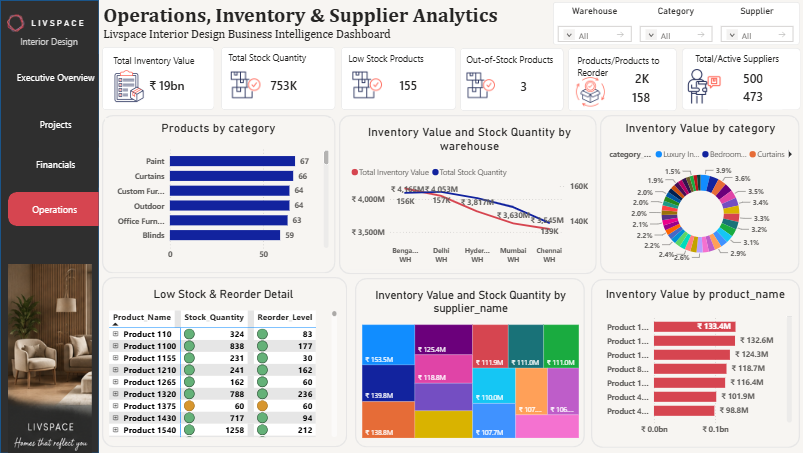

This screenshot's page, from the dashboard's own definition file:
{"tool":"powerbi","page":{"name":"Page 4","canvas":[1280,720],"ordinal":3},"visuals":[{"type":"group","id":"g1","title":"Group 1","box":[0,0,157.4,719.7],"z":0},{"type":"shape","box":[0,0,157.4,719.7],"z":0,"group":"g1"},{"type":"textbox","box":[158.3,0,1121.7,75],"z":1000},{"type":"shape","box":[20.6,86.4,135.7,74.3],"z":1000,"group":"g1"},{"type":"image","box":[11.8,18.8,29.4,34.7],"z":2000,"group":"g1"},{"type":"group","id":"g2","title":"Group 2","box":[350,75,182,100],"z":2000},{"type":"textbox","box":[44.1,22.9,101.6,36.1],"z":3000,"group":"g1"},{"type":"group","id":"g3","title":"Group 3","box":[162.7,75.3,178.5,100],"z":3000},{"type":"textbox","box":[26.5,50,115.7,31.4],"z":4000,"group":"g1"},{"type":"group","id":"g4","title":"Group 2","box":[540.6,75.3,182.9,100],"z":4000},{"type":"group","id":"g5","title":"Group 2","box":[730.3,75.8,164.6,100],"z":5000},{"type":"shape","box":[12.2,305.4,144.3,54.1],"z":5000,"group":"g1"},{"type":"group","id":"g6","title":"Group 2","box":[901,75.8,172.8,100.4],"z":6000},{"type":"image","box":[13.1,419.7,132.8,300],"z":6000,"group":"g1"},{"type":"group","id":"g7","title":"Group 4","box":[1081.8,75.8,187.9,99],"z":7000},{"type":"group","id":"g8","title":"Group 2","box":[1081.8,75.8,188.4,98.5],"z":7000,"group":"g7"},{"type":"shape","box":[20,224.4,135.7,74.3],"z":7000,"group":"g1"},{"type":"shape","box":[20.3,160.8,135.7,74.3],"z":8000,"group":"g1"},{"type":"shape","box":[953,181.8,316.7,251.5],"z":8000},{"type":"group","id":"g9","title":"Group 6","box":[162.3,182,367,251.8],"z":9000},{"type":"shape","box":[877.3,3.4,391.6,68],"z":10000,"group":"g11"},{"type":"shape","box":[350,75,181.6,100],"z":10000,"group":"g2"},{"type":"shape","box":[162.7,75.3,178.5,100],"z":10000,"group":"g3"},{"type":"shape","box":[540.6,75.3,182.9,100],"z":10000,"group":"g4"},{"type":"shape","box":[730.3,75.8,164.6,100],"z":10000,"group":"g5"},{"type":"shape","box":[901,75.8,172.8,100.4],"z":10000,"group":"g6"},{"type":"shape","box":[1081.8,75.8,188.4,98.5],"z":10000,"group":"g8"},{"type":"donutChart","title":"Inventory Value by category","fields":{"Category":["product_categories.category_name"],"Y":["All Measures.Total Inventory Value"]},"box":[962.1,187.9,300,237.9],"z":10000},{"type":"cardVisual","title":"Total Revenue","fields":{"Data":["All Measures.Total Suppliers"]},"box":[1155.1,97.4,86.1,48.1],"z":11000,"group":"g8"},{"type":"cardVisual","title":"Total Revenue","fields":{"Data":["All Measures.Total Inventory Value"]},"box":[208.7,108.1,126.4,52.9],"z":11000,"group":"g3"},{"type":"cardVisual","title":"Total Revenue","fields":{"Data":["All Measures.Total Stock Quantity"]},"box":[399.4,109,111.4,52.5],"z":11000,"group":"g2"},{"type":"cardVisual","title":"Total Revenue","fields":{"Data":["All Measures.Low Stock Products"]},"box":[603.9,110,104.6,51.7],"z":11000,"group":"g4"},{"type":"cardVisual","title":"Total Revenue","fields":{"Data":["All Measures.Out-of-Stock Products"]},"box":[784.8,110.3,94.2,51.7],"z":11000,"group":"g5"},{"type":"cardVisual","title":"Total Revenue","fields":{"Data":["All Measures.Products Requiring Reorder"]},"box":[978.8,129.6,80.8,44.4],"z":11000,"group":"g6"},{"type":"cardVisual","title":"Total Revenue","fields":{"Data":["All Measures.Active Suppliers"]},"box":[1155.1,130.6,86.2,41.7],"z":11000,"group":"g7"},{"type":"shape","box":[162.3,182,370.5,251.4],"z":11000,"group":"g9"},{"type":"group","id":"g10","title":"Group 7","box":[538.4,182,409.2,252.9],"z":11000},{"type":"textSlicer","title":"Warehouse","fields":{"Values":["inventory.warehouse"]},"box":[881.4,6.8,122.9,63.2],"z":12000,"group":"g11"},{"type":"textbox","box":[355.8,77.3,160.1,36.1],"z":12000,"group":"g2"},{"type":"textbox","box":[1098.3,78.1,153.9,31.6],"z":12000,"group":"g8"},{"type":"textbox","box":[735.3,78.6,149.2,31],"z":12000,"group":"g5"},{"type":"textbox","box":[546.3,79,146.2,28.7],"z":12000,"group":"g4"},{"type":"textbox","box":[909.9,80.4,156.6,51.3],"z":12000,"group":"g6"},{"type":"textbox","box":[174.8,81,157,28.8],"z":12000,"group":"g3"},{"type":"clusteredBarChart","title":"Products by category","fields":{"Category":["product_categories.category_name"],"Y":["All Measures.Total Products"]},"box":[167.5,186.9,360.2,235.1],"z":12000,"group":"g9"},{"type":"shape","box":[161.7,440.4,389.4,270.2],"z":12000},{"type":"cardVisual","title":"Total Revenue","fields":{"Data":["All Measures.Total Products"]},"box":[983.5,101.5,78.9,43.4],"z":13000},{"type":"image","box":[1086.7,108.5,61.1,55.3],"z":13000,"group":"g8"},{"type":"image","box":[359.5,112.3,58.8,47.1],"z":13000,"group":"g2"},{"type":"image","box":[179.6,112.6,50.6,50.6],"z":13000,"group":"g3"},{"type":"image","box":[551.7,112.6,61.2,47.1],"z":13000,"group":"g4"},{"type":"image","box":[737.1,113,53,44.5],"z":13000,"group":"g5"},{"type":"image","box":[910,121.7,52,46.7],"z":13000,"group":"g6"},{"type":"shape","box":[538.4,182,409.2,252.9],"z":13000,"group":"g10"},{"type":"lineChart","title":"Inventory Value and Stock Quantity by warehouse","fields":{"Category":["inventory.warehouse"],"Y":["All Measures.Total Inventory Value"],"Y2":["All Measures.Total Stock Quantity"]},"box":[553.2,192.4,386.2,233.8],"z":14000,"group":"g10"},{"type":"pivotTable","title":"Low Stock & Reorder Detail","fields":{"Rows":["products.product_name","suppliers.supplier_name"],"Values":["Sum(inventory.stock_quantity)","Sum(inventory.reorder_level)"]},"box":[168.1,451.1,372.3,247.9],"z":14000},{"type":"textSlicer","title":"Category","fields":{"Values":["product_categories.category_name"]},"box":[1012.7,6.8,120.7,62.8],"z":15000,"group":"g11"},{"type":"shape","box":[562.8,441.5,364.9,269.1],"z":15000},{"type":"treemap","title":"Inventory Value and Stock Quantity by supplier_name","fields":{"Values":["All Measures.Total Inventory Value","All Measures.Total Stock Quantity"],"Group":["suppliers.supplier_name"]},"box":[569.1,452.6,354.3,247.9],"z":16000},{"type":"textSlicer","title":"Supplier","fields":{"Values":["suppliers.supplier_name"]},"box":[1140.5,6.8,120.7,62.8],"z":17000,"group":"g11"},{"type":"shape","box":[938.3,442.6,331.9,268.1],"z":17000},{"type":"barChart","title":"Inventory Value by product_name","fields":{"Category":["products.product_name"],"Y":["All Measures.Total Inventory Value"]},"box":[945.7,450,316,248.9],"z":18000},{"type":"group","id":"g11","title":"Group 6","box":[877.3,3.4,392,68.2],"z":19000}]}

Visuals, with their boxes on the page's 1280x720 design canvas (x1, y1, x2, y2). These are canvas units, not pixel positions in the 803x453 screenshot, which may show the page scaled, cropped or inside an application window:
"Group 1" group: {"left": 0, "top": 0, "right": 157, "bottom": 720}
shape: {"left": 0, "top": 0, "right": 157, "bottom": 720}
textbox: {"left": 158, "top": 0, "right": 1280, "bottom": 75}
shape: {"left": 21, "top": 86, "right": 156, "bottom": 161}
image: {"left": 12, "top": 19, "right": 41, "bottom": 54}
"Group 2" group: {"left": 350, "top": 75, "right": 532, "bottom": 175}
textbox: {"left": 44, "top": 23, "right": 146, "bottom": 59}
"Group 3" group: {"left": 163, "top": 75, "right": 341, "bottom": 175}
textbox: {"left": 26, "top": 50, "right": 142, "bottom": 81}
"Group 2" group: {"left": 541, "top": 75, "right": 724, "bottom": 175}
"Group 2" group: {"left": 730, "top": 76, "right": 895, "bottom": 176}
shape: {"left": 12, "top": 305, "right": 156, "bottom": 360}
"Group 2" group: {"left": 901, "top": 76, "right": 1074, "bottom": 176}
image: {"left": 13, "top": 420, "right": 146, "bottom": 720}
"Group 4" group: {"left": 1082, "top": 76, "right": 1270, "bottom": 175}
"Group 2" group: {"left": 1082, "top": 76, "right": 1270, "bottom": 174}
shape: {"left": 20, "top": 224, "right": 156, "bottom": 299}
shape: {"left": 20, "top": 161, "right": 156, "bottom": 235}
shape: {"left": 953, "top": 182, "right": 1270, "bottom": 433}
"Group 6" group: {"left": 162, "top": 182, "right": 529, "bottom": 434}
shape: {"left": 877, "top": 3, "right": 1269, "bottom": 71}
shape: {"left": 350, "top": 75, "right": 532, "bottom": 175}
shape: {"left": 163, "top": 75, "right": 341, "bottom": 175}
shape: {"left": 541, "top": 75, "right": 724, "bottom": 175}
shape: {"left": 730, "top": 76, "right": 895, "bottom": 176}
shape: {"left": 901, "top": 76, "right": 1074, "bottom": 176}
shape: {"left": 1082, "top": 76, "right": 1270, "bottom": 174}
"Inventory Value by category" donutChart: {"left": 962, "top": 188, "right": 1262, "bottom": 426}
"Total Revenue" cardVisual: {"left": 1155, "top": 97, "right": 1241, "bottom": 146}
"Total Revenue" cardVisual: {"left": 209, "top": 108, "right": 335, "bottom": 161}
"Total Revenue" cardVisual: {"left": 399, "top": 109, "right": 511, "bottom": 162}
"Total Revenue" cardVisual: {"left": 604, "top": 110, "right": 708, "bottom": 162}
"Total Revenue" cardVisual: {"left": 785, "top": 110, "right": 879, "bottom": 162}
"Total Revenue" cardVisual: {"left": 979, "top": 130, "right": 1060, "bottom": 174}
"Total Revenue" cardVisual: {"left": 1155, "top": 131, "right": 1241, "bottom": 172}
shape: {"left": 162, "top": 182, "right": 533, "bottom": 433}
"Group 7" group: {"left": 538, "top": 182, "right": 948, "bottom": 435}
"Warehouse" textSlicer: {"left": 881, "top": 7, "right": 1004, "bottom": 70}
textbox: {"left": 356, "top": 77, "right": 516, "bottom": 113}
textbox: {"left": 1098, "top": 78, "right": 1252, "bottom": 110}
textbox: {"left": 735, "top": 79, "right": 884, "bottom": 110}
textbox: {"left": 546, "top": 79, "right": 692, "bottom": 108}
textbox: {"left": 910, "top": 80, "right": 1066, "bottom": 132}
textbox: {"left": 175, "top": 81, "right": 332, "bottom": 110}
"Products by category" clusteredBarChart: {"left": 168, "top": 187, "right": 528, "bottom": 422}
shape: {"left": 162, "top": 440, "right": 551, "bottom": 711}
"Total Revenue" cardVisual: {"left": 984, "top": 102, "right": 1062, "bottom": 145}
image: {"left": 1087, "top": 108, "right": 1148, "bottom": 164}
image: {"left": 360, "top": 112, "right": 418, "bottom": 159}
image: {"left": 180, "top": 113, "right": 230, "bottom": 163}
image: {"left": 552, "top": 113, "right": 613, "bottom": 160}
image: {"left": 737, "top": 113, "right": 790, "bottom": 158}
image: {"left": 910, "top": 122, "right": 962, "bottom": 168}
shape: {"left": 538, "top": 182, "right": 948, "bottom": 435}
"Inventory Value and Stock Quantity by warehouse" lineChart: {"left": 553, "top": 192, "right": 939, "bottom": 426}
"Low Stock & Reorder Detail" pivotTable: {"left": 168, "top": 451, "right": 540, "bottom": 699}
"Category" textSlicer: {"left": 1013, "top": 7, "right": 1133, "bottom": 70}
shape: {"left": 563, "top": 442, "right": 928, "bottom": 711}
"Inventory Value and Stock Quantity by supplier_name" treemap: {"left": 569, "top": 453, "right": 923, "bottom": 700}
"Supplier" textSlicer: {"left": 1140, "top": 7, "right": 1261, "bottom": 70}
shape: {"left": 938, "top": 443, "right": 1270, "bottom": 711}
"Inventory Value by product_name" barChart: {"left": 946, "top": 450, "right": 1262, "bottom": 699}
"Group 6" group: {"left": 877, "top": 3, "right": 1269, "bottom": 72}
